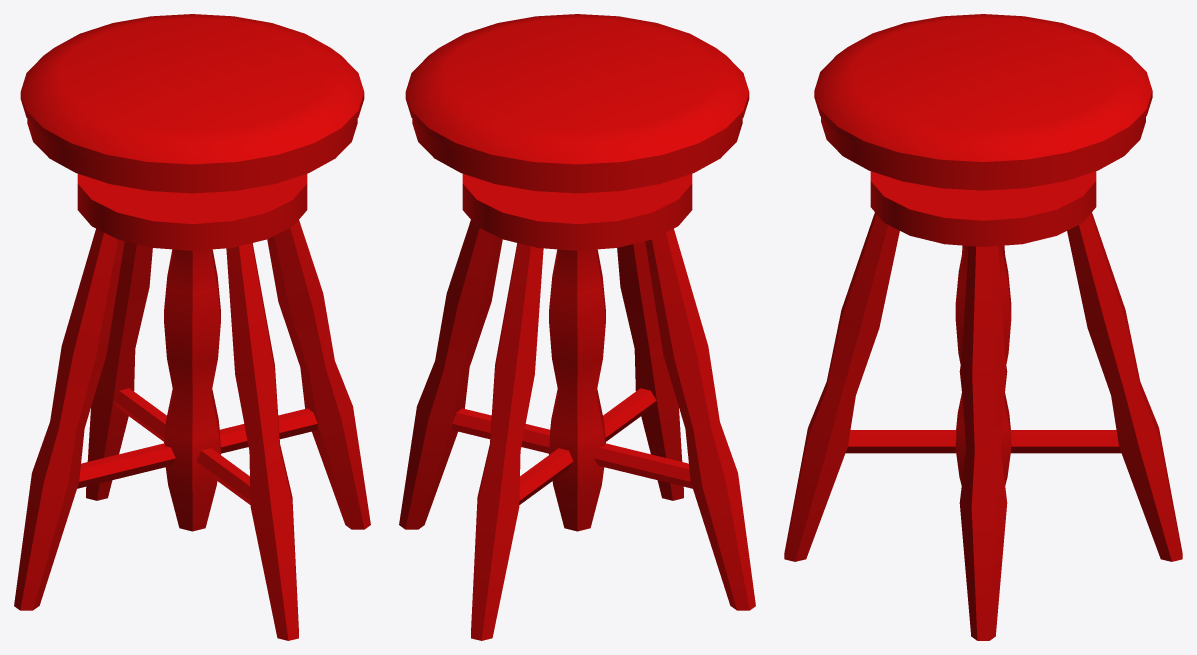
Rendered from Attic_PianoChair_02_LP.glb.
3 views of the same model, side by side, from view 1: azimuth 30°, elevation 25°; view 2: azimuth 150°, elevation 25°; view 3: azimuth 270°, elevation 25° (orthographic).
Visible parts, largest first — view 1: Attic_PianoChair_02_LP; view 2: Attic_PianoChair_02_LP; view 3: Attic_PianoChair_02_LP.
Part boxes in pixels (box(x1,y1,x2,y2)): Attic_PianoChair_02_LP: box(14, 14, 370, 640); Attic_PianoChair_02_LP: box(399, 14, 755, 640); Attic_PianoChair_02_LP: box(784, 14, 1182, 640).
Bounding box in the file's own units: 0.4361 × 0.583 × 0.4361.
